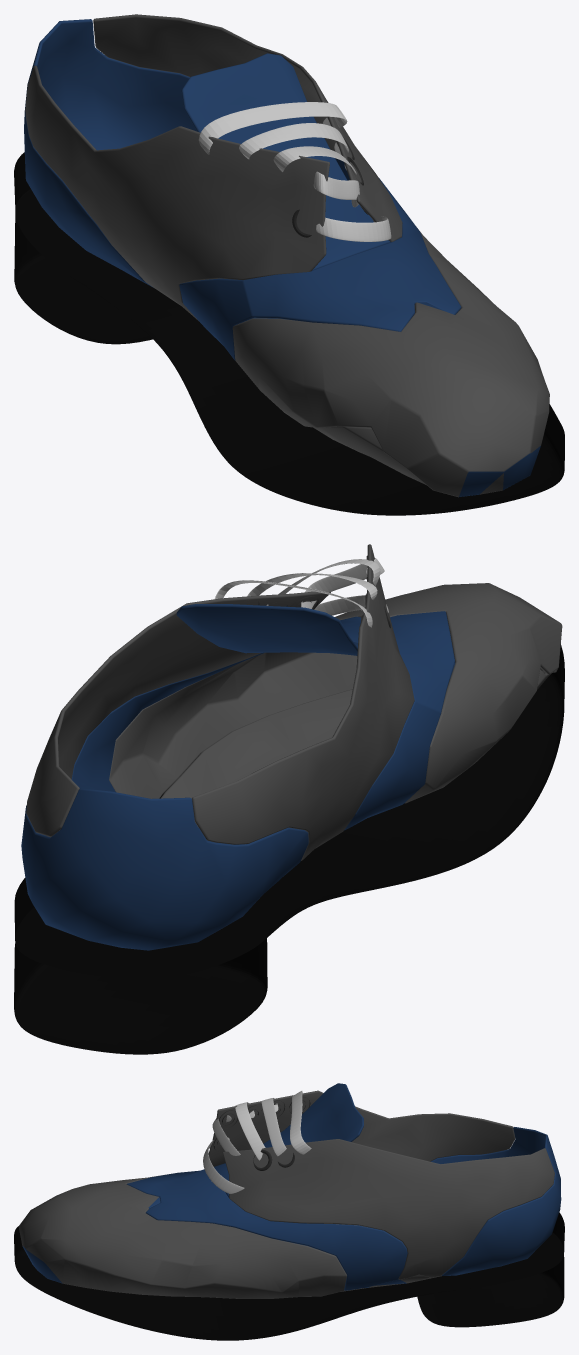
File: za2ot2izquierda.fbx
3 renders of one model, top to bottom at view 1: azimuth 30°, elevation 25°; view 2: azimuth 150°, elevation 25°; view 3: azimuth 270°, elevation 25°, orthographic. The views are drawn at different scales.
Parts seen in each view (by area): view 1: zapato2, Plane, Plane.004, Plane.003, Plane.005, Plane.002, Plane.001; view 2: zapato2, Plane, Plane.002, Plane.003, Plane.005, Plane.004; view 3: zapato2, Plane, Plane.001, Plane.003, Plane.004, Plane.005, Plane.002.
Boxes of the visible parts, <box> form: zapato2: <box>24,14,549,497</box>; Plane: <box>14,152,564,515</box>; Plane.004: <box>198,102,347,154</box>; Plane.003: <box>239,123,348,159</box>; Plane.005: <box>316,216,391,241</box>; Plane.002: <box>313,171,359,207</box>; Plane.001: <box>273,146,356,174</box>; zapato2: <box>21,544,562,950</box>; Plane: <box>14,644,564,1054</box>; Plane.002: <box>301,558,384,608</box>; Plane.003: <box>247,573,377,610</box>; Plane.005: <box>314,595,388,615</box>; Plane.004: <box>215,580,372,627</box>; zapato2: <box>18,1083,561,1298</box>; Plane: <box>14,1212,564,1340</box>; Plane.001: <box>235,1102,265,1160</box>; Plane.003: <box>261,1098,286,1156</box>; Plane.004: <box>290,1091,311,1154</box>; Plane.005: <box>203,1137,244,1193</box>; Plane.002: <box>212,1115,240,1155</box>.
Bounding box in the file's own units: 169 × 176 × 447.
